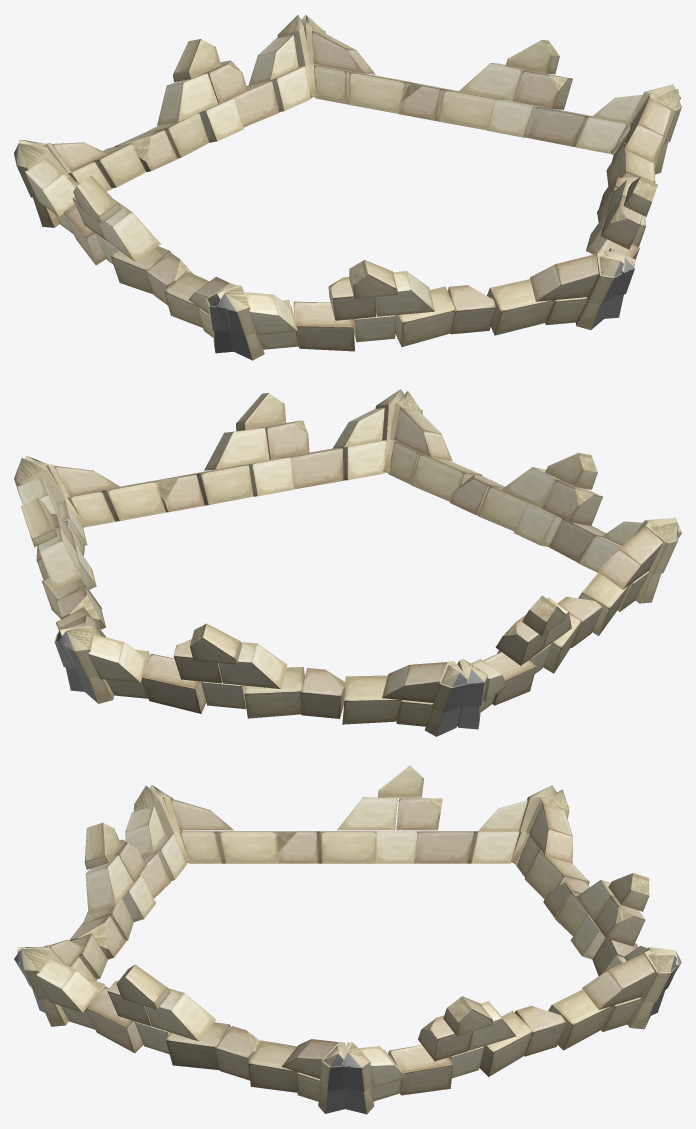
File: arena-mur2.FBX
3 renders of one model, top to bottom at view 1: azimuth 30°, elevation 25°; view 2: azimuth 150°, elevation 25°; view 3: azimuth 270°, elevation 25°, orthographic.
Visible parts, largest first — view 1: Box113, Box115, Box116, Box103, Box114; view 2: Box116, Box114, Box113, Box103, Box115; view 3: Box115, Box114, Box103, Box113, Box116.
Part boxes in pixels (x1,y1,x2,y2): Box113: (216, 252, 631, 360); Box115: (301, 15, 680, 154); Box116: (14, 15, 316, 191); Box103: (14, 143, 234, 353); Box114: (586, 89, 681, 318); Box116: (58, 623, 472, 736); Box114: (16, 389, 404, 527); Box113: (383, 391, 681, 572); Box103: (457, 522, 678, 729); Box115: (14, 458, 106, 691); Box115: (341, 950, 681, 1114); Box114: (14, 947, 350, 1113); Box103: (149, 765, 556, 863); Box113: (17, 786, 190, 1012); Box116: (512, 789, 680, 1015).
Size of the model in its own units: 3.17 by 0.5048 by 3.25.
7 materials, 6 textured.
